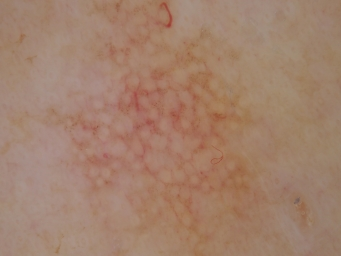nevus: (56, 56, 250, 227)
